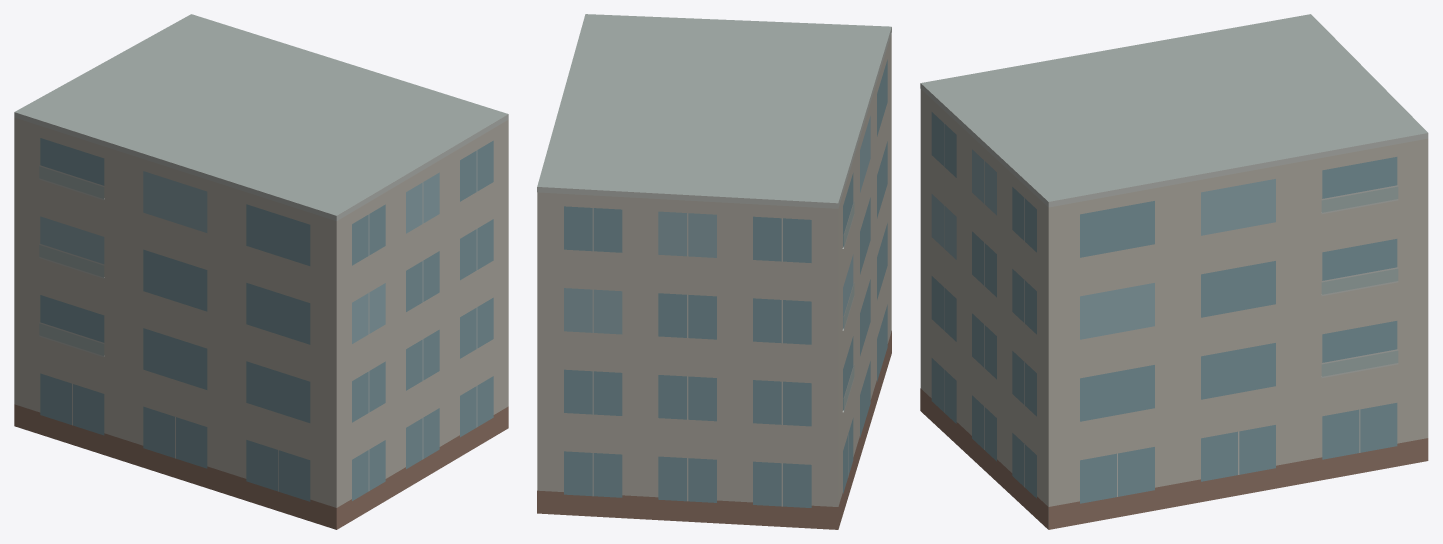
The model's file is survey-upis-32772383.glb.
The picture shows the model from 3 angles, left to right: view 1: azimuth 30°, elevation 25°; view 2: azimuth 150°, elevation 25°; view 3: azimuth 270°, elevation 25°; orthographic projection. The views are drawn at different scales.
Parts seen in each view (by area): view 1: survey-upis-32772383.tmp; view 2: survey-upis-32772383.tmp; view 3: survey-upis-32772383.tmp.
Part boxes in pixels (x1=…): survey-upis-32772383.tmp: x1=14, y1=14, x2=508, y2=529; survey-upis-32772383.tmp: x1=537, y1=14, x2=891, y2=529; survey-upis-32772383.tmp: x1=920, y1=14, x2=1428, y2=529.
Bounding box in the file's own units: 17.58 × 14.3 × 20.08.
